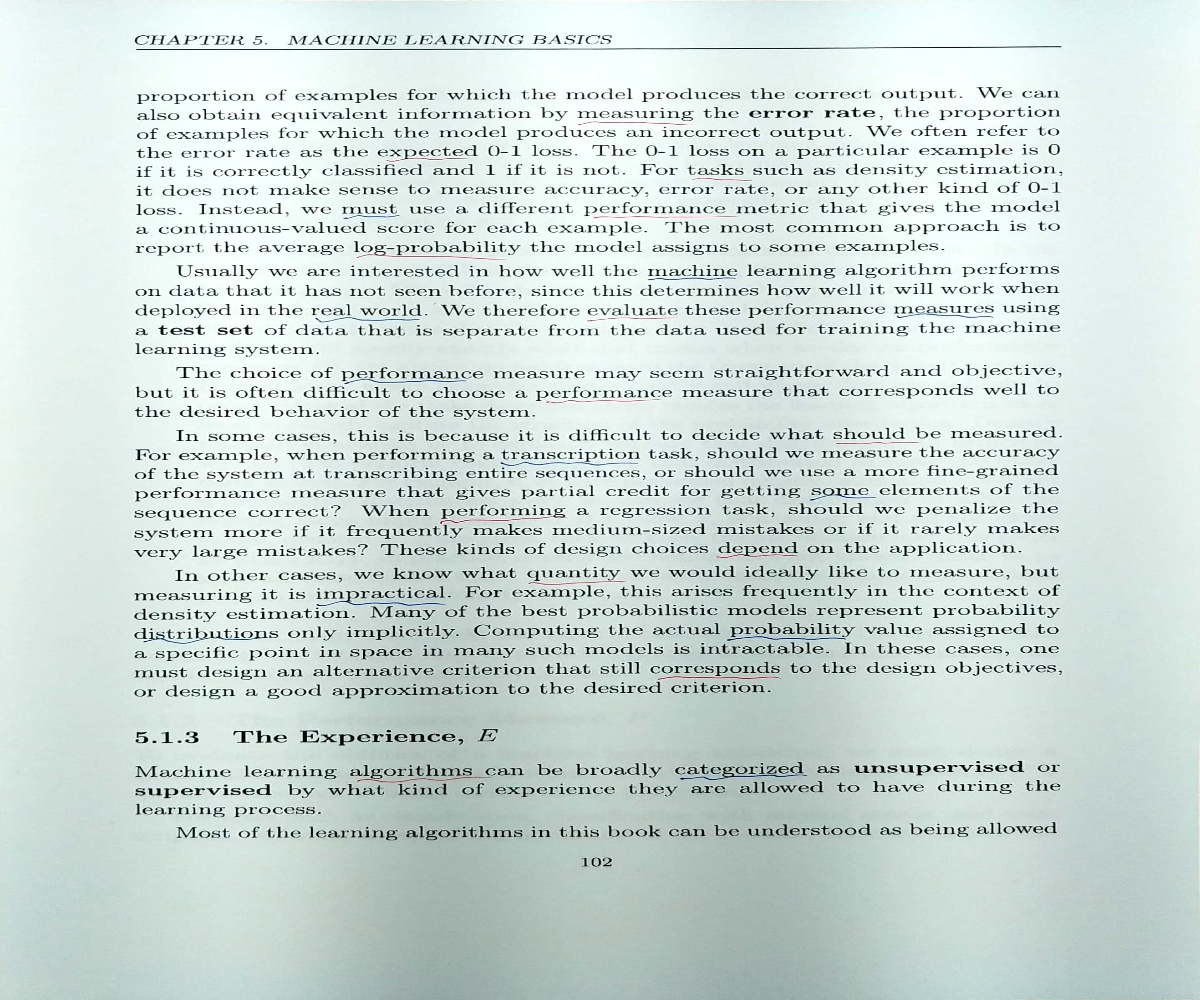underline: (353, 252, 507, 263), (496, 458, 636, 468), (437, 515, 568, 525), (355, 775, 494, 784), (313, 599, 450, 608), (136, 636, 276, 644), (524, 575, 623, 586), (679, 773, 810, 781), (592, 212, 740, 219), (545, 397, 668, 405), (897, 311, 995, 321), (724, 634, 846, 642), (577, 118, 687, 126), (341, 378, 466, 385), (656, 674, 780, 681), (716, 552, 800, 561), (810, 492, 877, 503), (312, 315, 417, 322), (833, 438, 921, 446), (645, 274, 738, 281), (384, 155, 469, 162), (586, 316, 685, 322), (342, 212, 401, 221), (692, 175, 753, 183)
